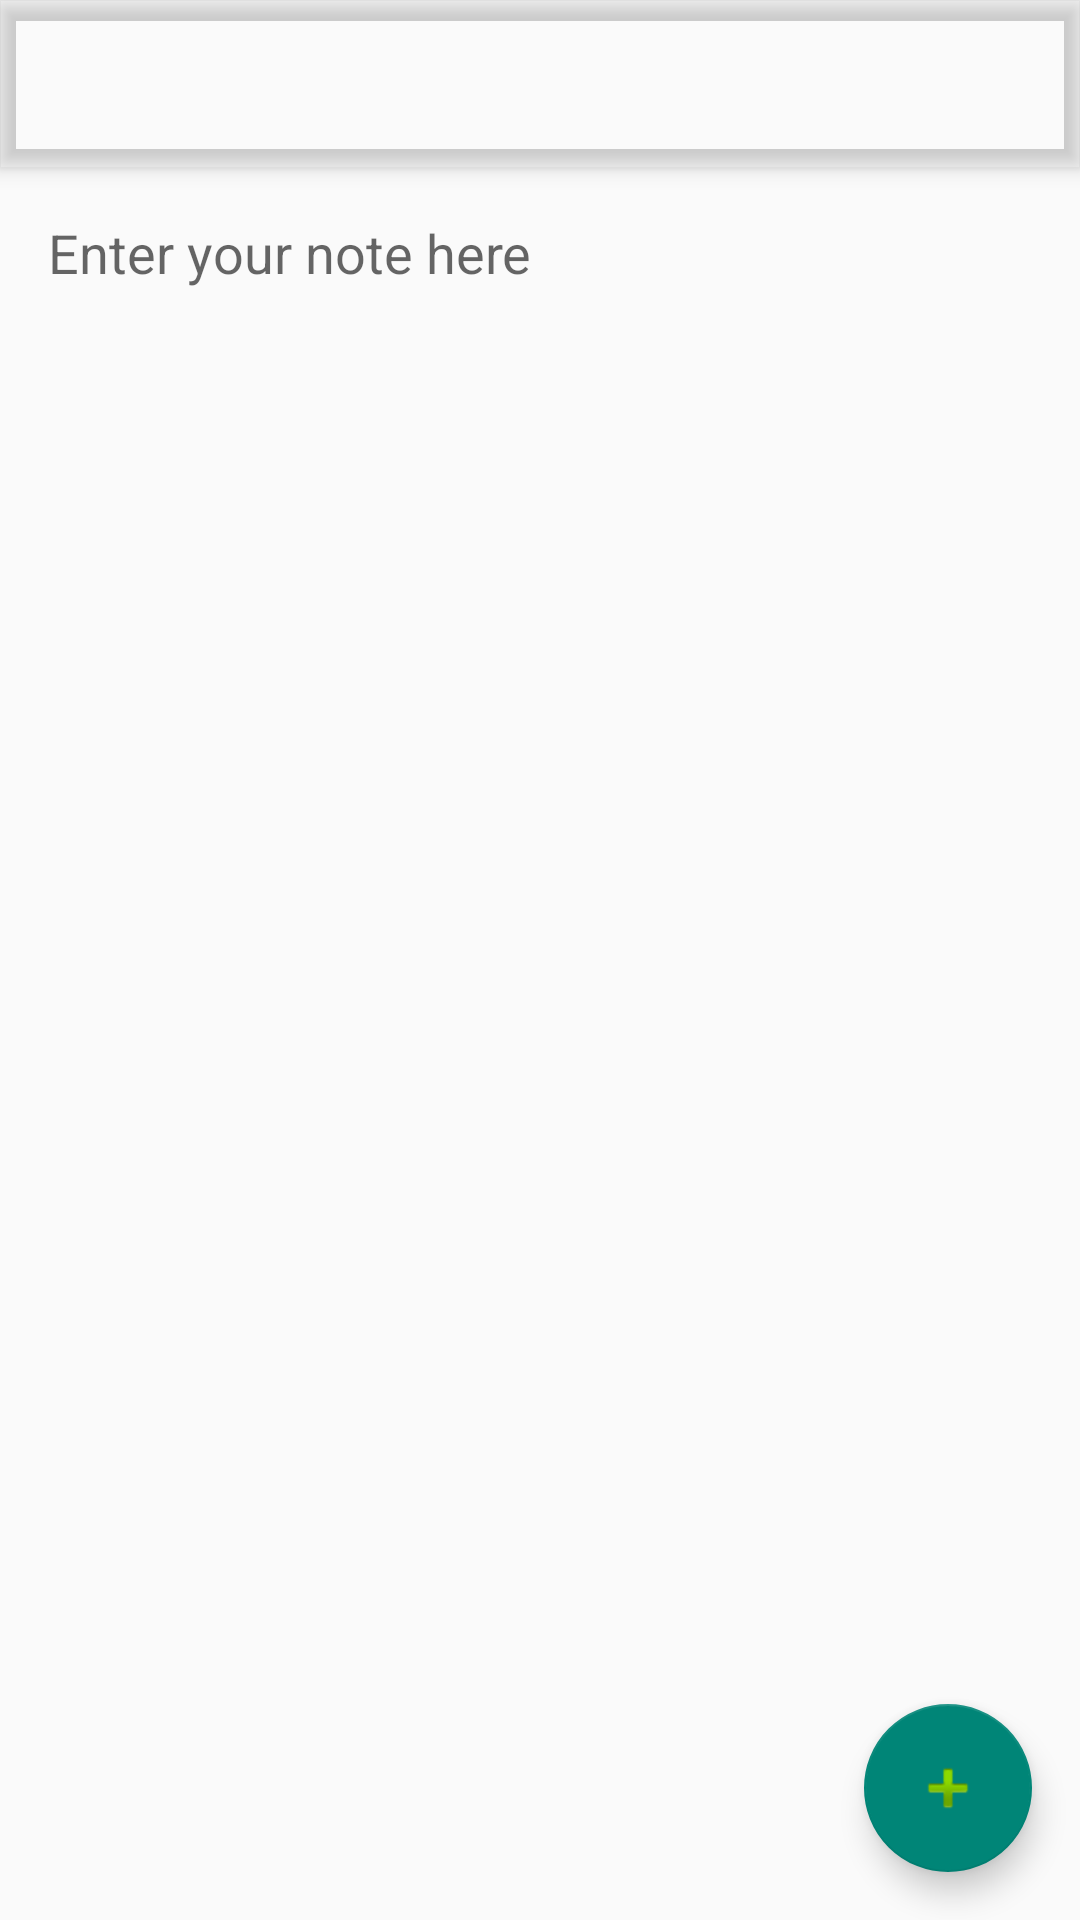

Point at icon controls on the screen. Image size 1080w x 1920h, points as point (x, y).
Add new note: point (948, 1788)
